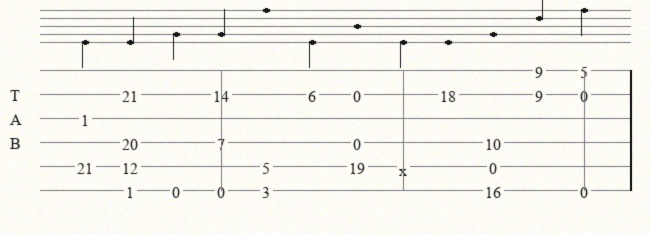0: (172, 183, 184, 198), (217, 183, 229, 198), (353, 87, 365, 102), (353, 135, 365, 150), (489, 159, 501, 174), (580, 87, 592, 102), (580, 183, 592, 198)
1: (81, 111, 93, 126), (126, 183, 138, 198)
10: (485, 135, 505, 150)
12: (122, 159, 142, 174)
14: (213, 87, 233, 102)
16: (485, 183, 505, 198)
18: (440, 87, 460, 102)
19: (349, 159, 369, 174)
20: (122, 135, 142, 150)
21: (77, 159, 97, 174), (122, 87, 142, 102)
3: (262, 183, 274, 198)
5: (262, 159, 274, 174), (580, 63, 592, 78)
6: (308, 87, 320, 102)
7: (217, 135, 229, 150)
9: (535, 87, 547, 102), (535, 63, 547, 78)
x: (399, 161, 411, 172)
